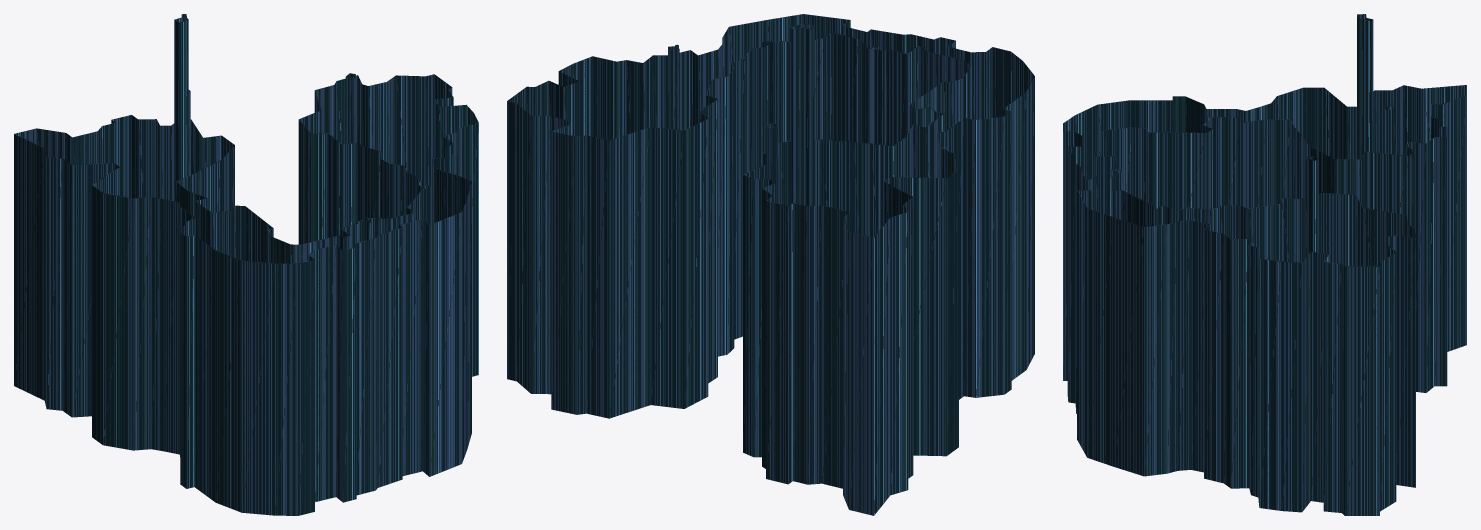
The model's file is yw_xuesebingfeng_zudang01.FBX.
3 renders of one model, left to right at view 1: azimuth 30°, elevation 25°; view 2: azimuth 150°, elevation 25°; view 3: azimuth 270°, elevation 25°, orthographic. The views are drawn at different scales.
Parts seen in each view (by area): view 1: yw_xuesebingfeng_zudang01; view 2: yw_xuesebingfeng_zudang01; view 3: yw_xuesebingfeng_zudang01.
Part boxes in pixels (<box>): yw_xuesebingfeng_zudang01: <box>14,14,478,515</box>; yw_xuesebingfeng_zudang01: <box>507,14,1034,515</box>; yw_xuesebingfeng_zudang01: <box>1063,14,1466,515</box>.
Size of the model in its own units: 9190 by 8795 by 8631.
